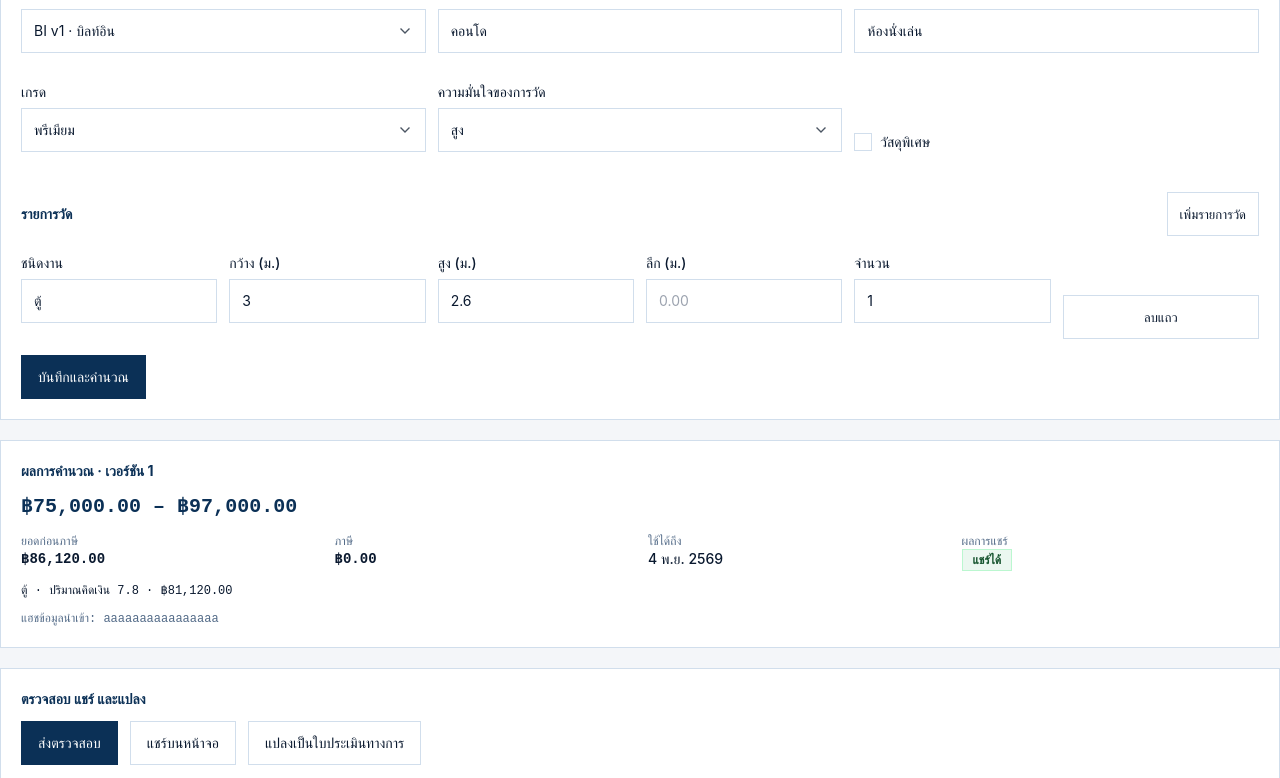
Test case: QuickEstimateWorkspace › shows a localized message for a known error code
(page scrolled)
Click the button "ส่งตรวจสอบ": (69, 743) [21,721,118,765]
(page scrolled)
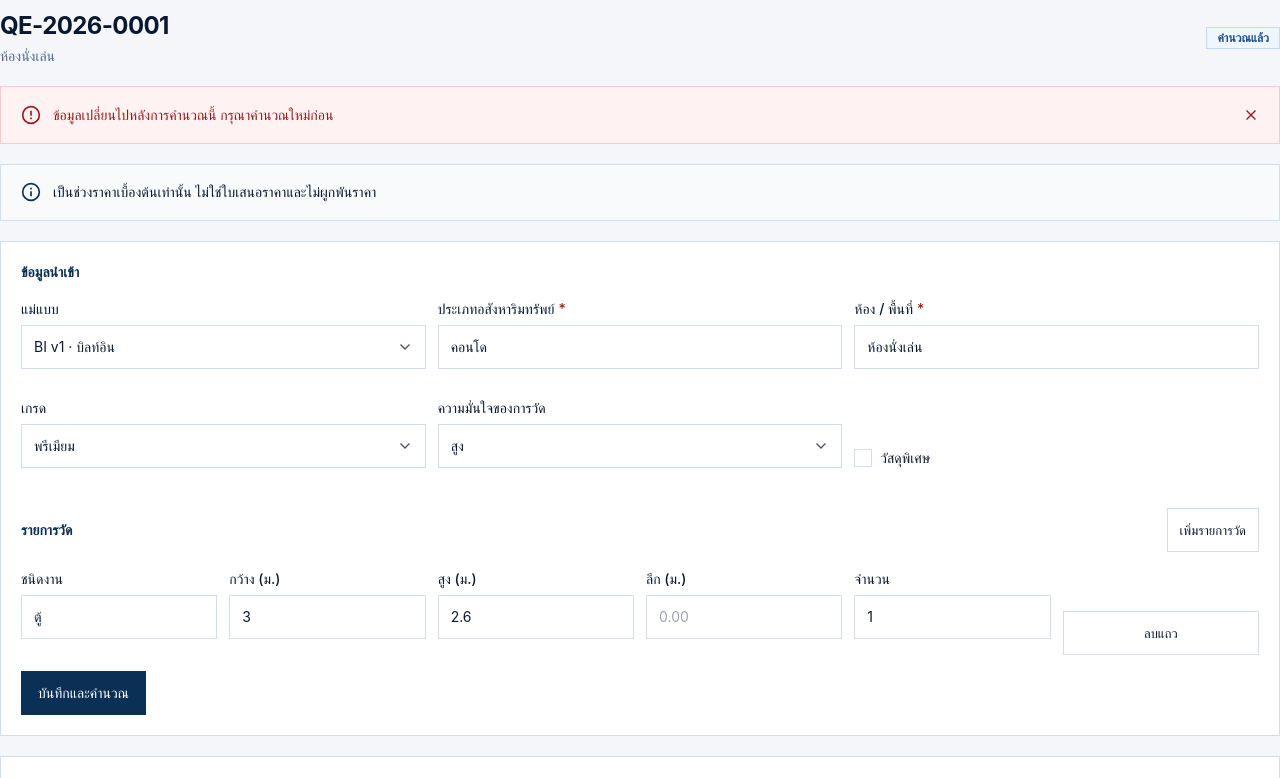
Now the text "ข้อมูลเปลี่ยนไปหลังการคำนวณนี้ กรุณาคำนวณใหม่ก่อน" is shown, box [53,106,333,123]
